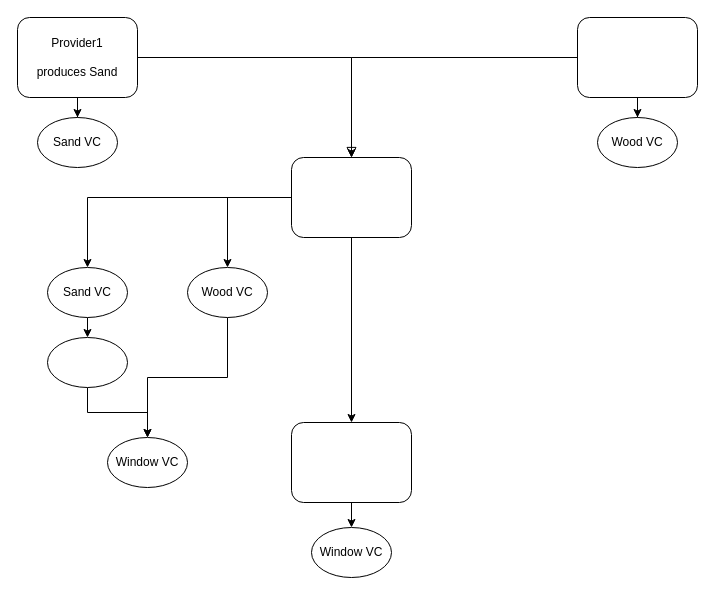
This 715x595 diagram has some shape labels left out. The centre of each missing label's shape, as x and y in pixels:
Glass VC: point (87, 362)
Producer produces Windows: point (351, 197)
Provider2 produces Wood: point (637, 57)
Retailer sells Windows: point (351, 462)
